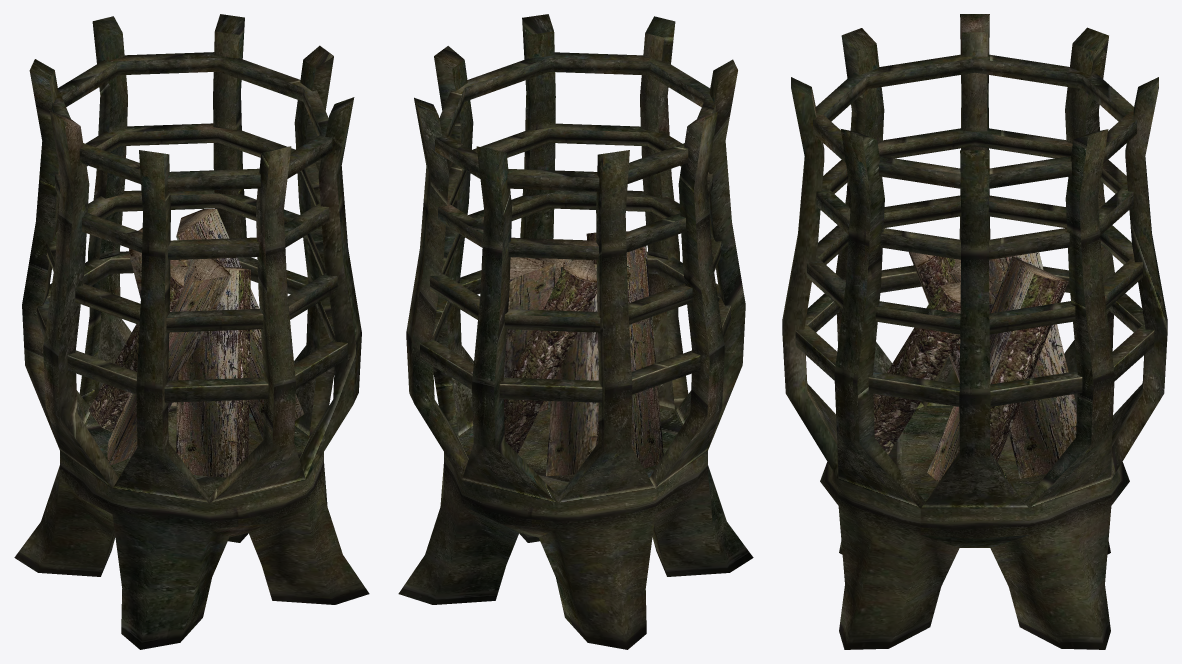
Rendered from KM_BRAZIER_FULL.glb.
The picture shows the model from 3 angles, left to right: view 1: azimuth 30°, elevation 25°; view 2: azimuth 150°, elevation 25°; view 3: azimuth 270°, elevation 25°; orthographic projection. The views are drawn at different scales.
Visible parts, largest first — view 1: Mesh; view 2: Mesh; view 3: Mesh.
Part boxes in pixels (x1,y1,x2,y2): Mesh: (14, 14, 369, 649); Mesh: (398, 14, 753, 649); Mesh: (782, 14, 1167, 649).
Size of the model in its own units: 0.6223 by 1.04 by 0.7094.
4 materials, 4 textured.
